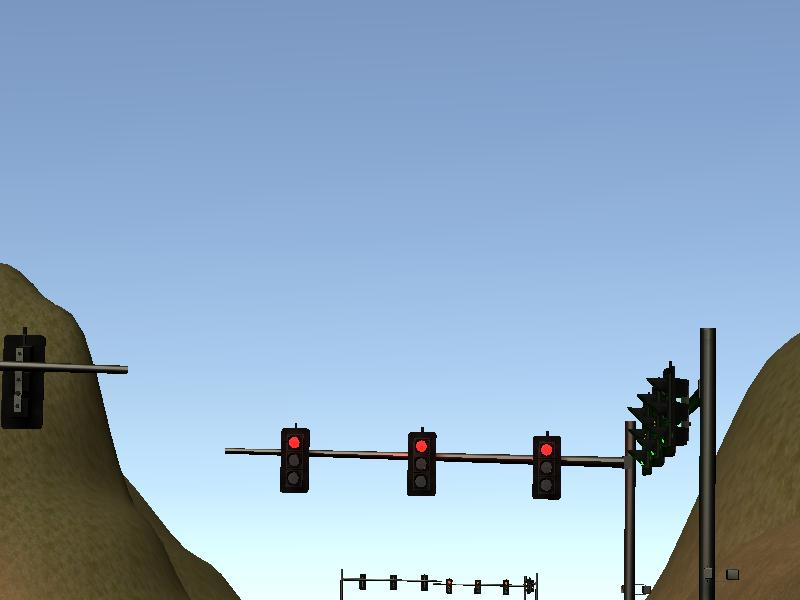red: (280, 427, 309, 494), (406, 432, 435, 499), (531, 434, 560, 501)
